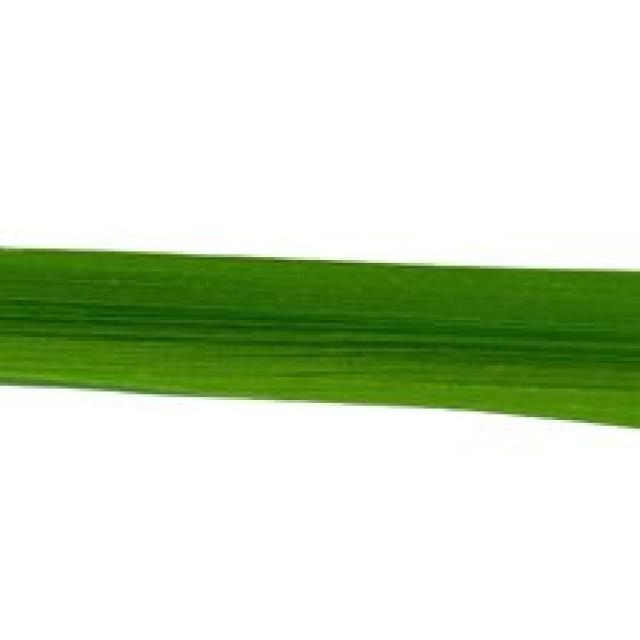Rice___Healthy_Rice_Plant: (0, 248, 637, 430)
